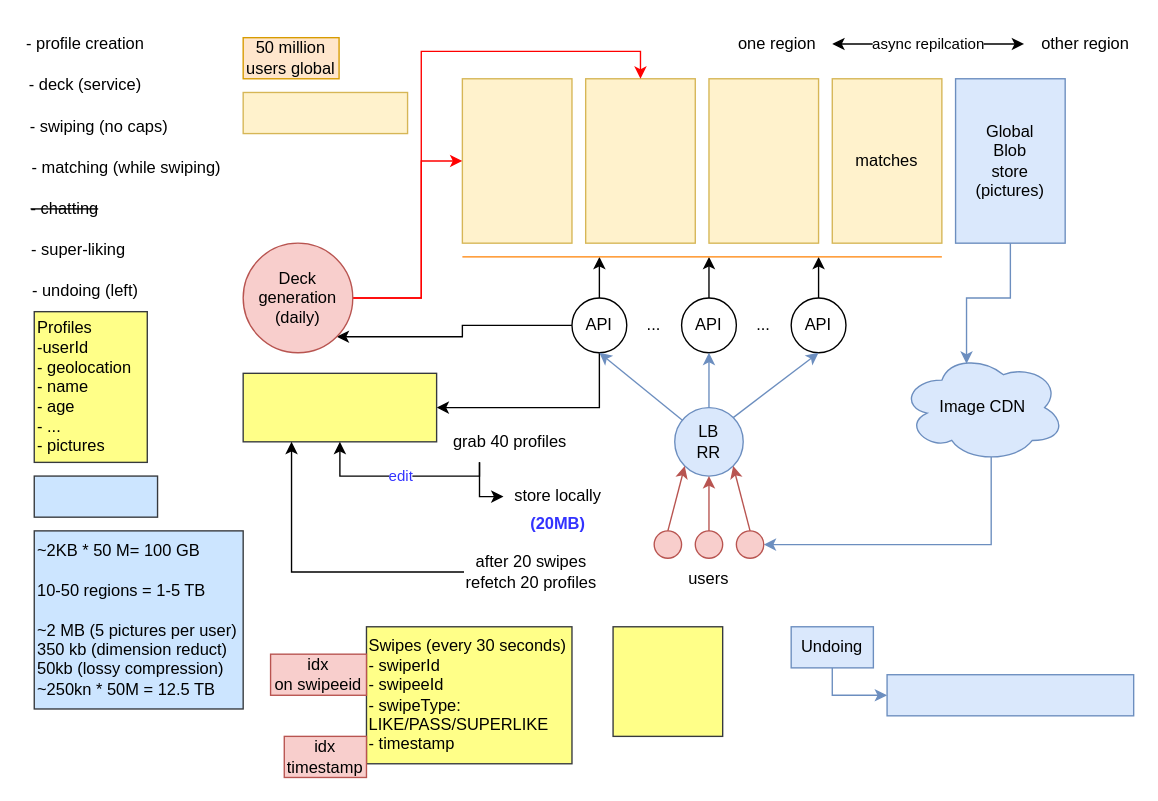
The diagram is 1158 pixels wide and 801 high, and some of its shapes have lost their labels. Here are the shapes that lost their labels. From the top down, the centre of each, then its label:
At (325,112): "latency on app load and after 200 profiles".
At (516,160): "profiles".
At (639,160): "decks".
At (763,160): "swipes".
At (339,407): "Decks - userId - potentialMatches (200)".
At (95,496): "~2KB per profile".
At (667,680): "matches - userOneId - userTwoId - timestamp".
At (1010,694): "wait until next swipe or app close".
